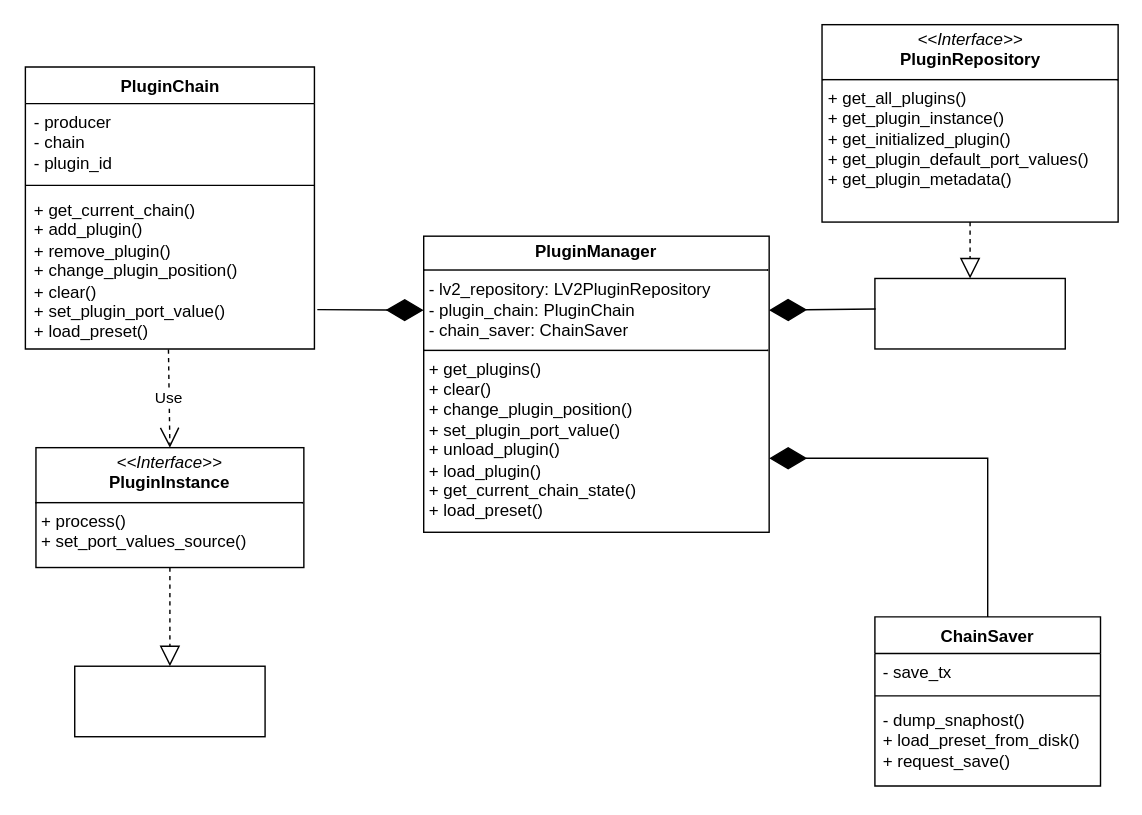
This 1142x815 diagram has some shape labels left out. The centre of each missing label's shape, as x and y in pixels:
LV2PluginInstance: pixel 169 701
LV2PluginRepository: pixel 969 313
